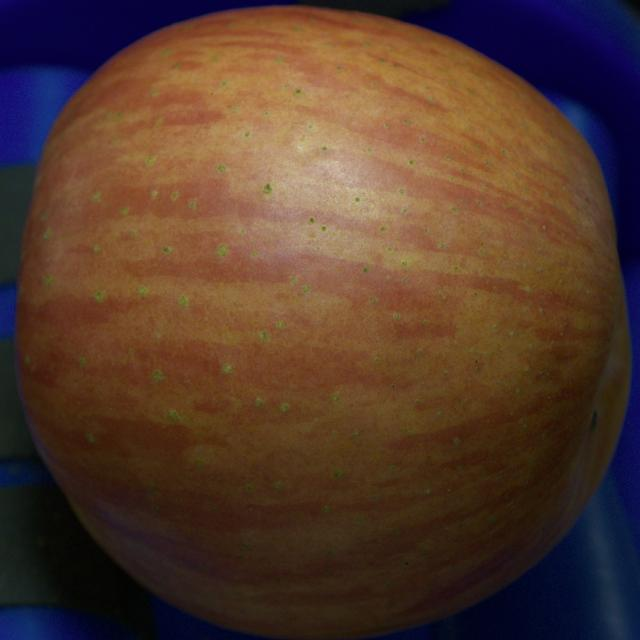apple: (16, 7, 631, 639)
